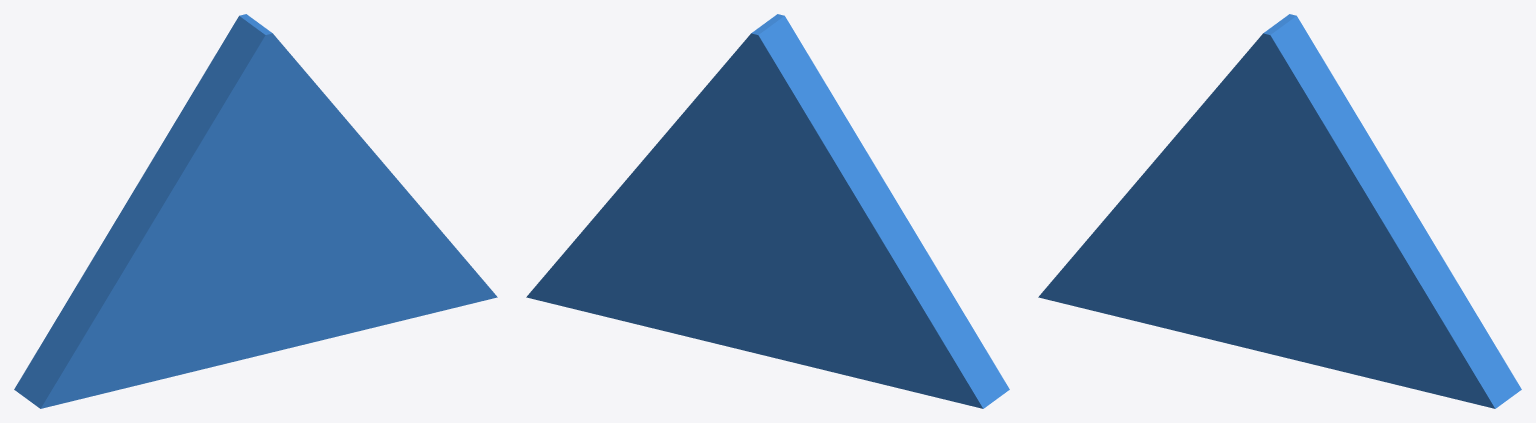
File: Collision_Roof_Front_Wood4.fbx
3 renders of one model, left to right at view 1: azimuth 30°, elevation 25°; view 2: azimuth 150°, elevation 25°; view 3: azimuth 330°, elevation 25°, orthographic.
Visible parts, largest first — view 1: UCX_Roof_Front_Wood4_1; view 2: UCX_Roof_Front_Wood4_1; view 3: UCX_Roof_Front_Wood4_1.
Boxes of the visible parts, x1,y1,x2,y2 form: UCX_Roof_Front_Wood4_1: (14,14,497,408); UCX_Roof_Front_Wood4_1: (526,14,1009,408); UCX_Roof_Front_Wood4_1: (1038,14,1521,408).
Bounding box in the file's own units: 458 × 305 × 45.89.
